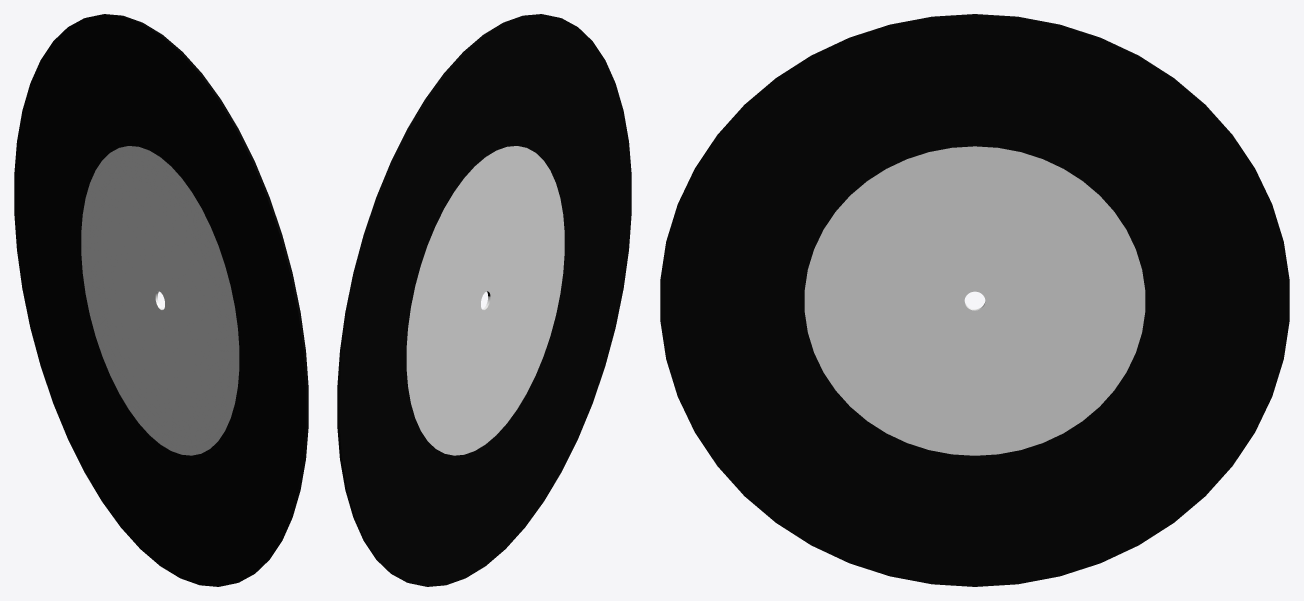
File: Vinyl.fbx
The picture shows the model from 3 angles, left to right: view 1: azimuth 30°, elevation 25°; view 2: azimuth 150°, elevation 25°; view 3: azimuth 270°, elevation 25°; orthographic projection. The views are drawn at different scales.
Parts seen in each view (by area): view 1: Cylinder001; view 2: Cylinder001; view 3: Cylinder001.
Boxes of the visible parts, <box> form: Cylinder001: <box>14,14,308,586</box>; Cylinder001: <box>337,14,631,586</box>; Cylinder001: <box>660,14,1289,586</box>.
Bounding box in the file's own units: 1.09 × 237 × 236.
